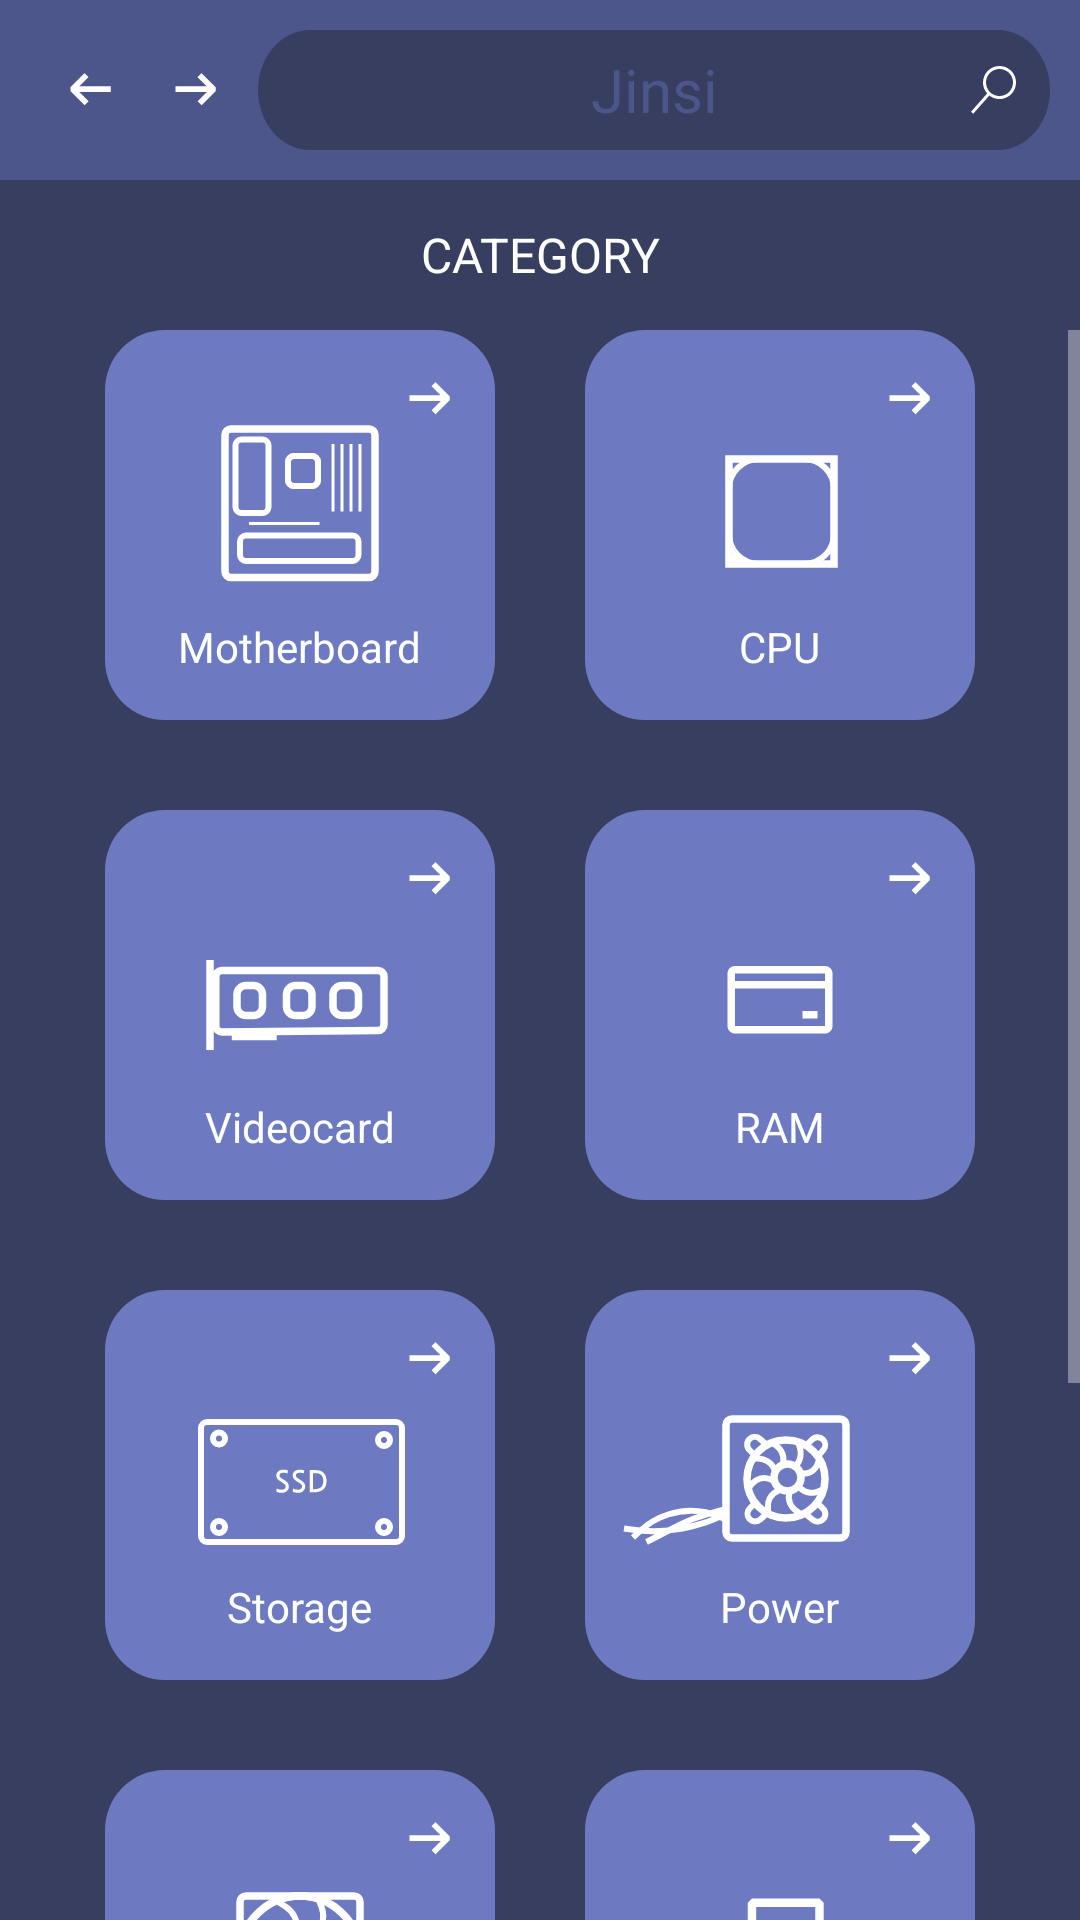

Icon bounding boxes for this 1080 x 1920 phone screenshot, format [left=x1, top=y1, right=x2, bottom=y2]:
arrow left: [left=70, top=73, right=111, bottom=105]
arrow right: [left=175, top=73, right=216, bottom=105]
search: [left=971, top=66, right=1016, bottom=114]
